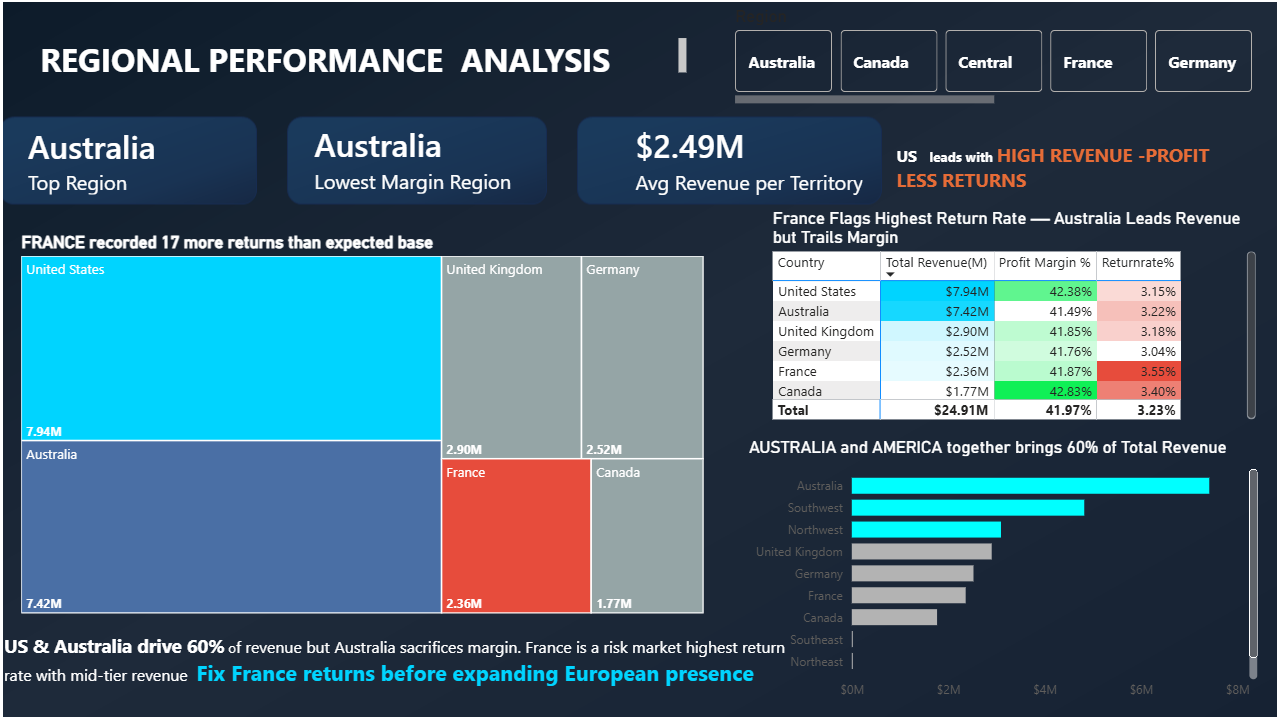

Layout of this report page (visuals, bound fields, positions):
{"tool":"powerbi","page":{"name":"REGIONAL ANALYSIS","canvas":[1280,720],"ordinal":2},"visuals":[{"type":"textbox","box":[35.7,31.6,655.9,48],"z":0},{"type":"cardVisual","fields":{"Data":["MEASURES (2).Top Region"]},"box":[0,104,286,107.1],"z":1000},{"type":"cardVisual","fields":{"Data":["MEASURES (2).Lowest Margin Region"]},"box":[286,104,286,105.5],"z":2000},{"type":"cardVisual","fields":{"Data":["MEASURES (2).Avg Revenue per Territory"]},"box":[607.3,105.5,321.2,105.5],"z":3000},{"type":"pivotTable","title":"France Flags Highest Return Rate — Australia Leads Revenue but Trails Margin","fields":{"Rows":["Territories.Country"],"Values":["MEASURES (2).Total Revenue(M)","MEASURES (2).Profit Margin %","MEASURES (2).Returnrate%"]},"box":[768.4,206.6,492.9,216.1],"z":4000},{"type":"textbox","box":[892.7,135.1,347.1,71.6],"z":5000},{"type":"clusteredBarChart","title":"AUSTRALIA  and AMERICA together brings 60% of Total Revenue","fields":{"Category":["Territories.Region"],"Y":["MEASURES (2).Total Revenue(M)"]},"box":[745.5,434.9,518.6,271.5],"z":6000},{"type":"advancedSlicerVisual","fields":{"Values":["Territories.Region"]},"box":[731.1,3.6,530.8,105],"z":7000},{"type":"treemap","title":"FRANCE recorded 17 more returns than expected base","fields":{"Group":["Territories.Country"],"Values":["MEASURES (2).Total revenue"]},"box":[17.9,230.2,691.9,386.3],"z":8000},{"type":"textbox","box":[0,626.7,796.8,66.5],"z":8002}]}

Visuals, with their boxes in screenshot pixels (x1, y1, x2, y2), scaled from the page's 1280x720 canvas onto the 1280x720 screenshot:
textbox: (left=36, top=32, right=692, bottom=80)
cardVisual - MEASURES (2).Top Region: (left=0, top=104, right=286, bottom=211)
cardVisual - MEASURES (2).Lowest Margin Region: (left=286, top=104, right=572, bottom=210)
cardVisual - MEASURES (2).Avg Revenue per Territory: (left=607, top=106, right=928, bottom=211)
"France Flags Highest Return Rate — Australia Leads Revenue but Trails Margin" pivotTable: (left=768, top=207, right=1261, bottom=423)
textbox: (left=893, top=135, right=1240, bottom=207)
"AUSTRALIA  and AMERICA together brings 60% of Total Revenue" clusteredBarChart: (left=746, top=435, right=1264, bottom=706)
advancedSlicerVisual - Territories.Region: (left=731, top=4, right=1262, bottom=109)
"FRANCE recorded 17 more returns than expected base" treemap: (left=18, top=230, right=710, bottom=616)
textbox: (left=0, top=627, right=797, bottom=693)
